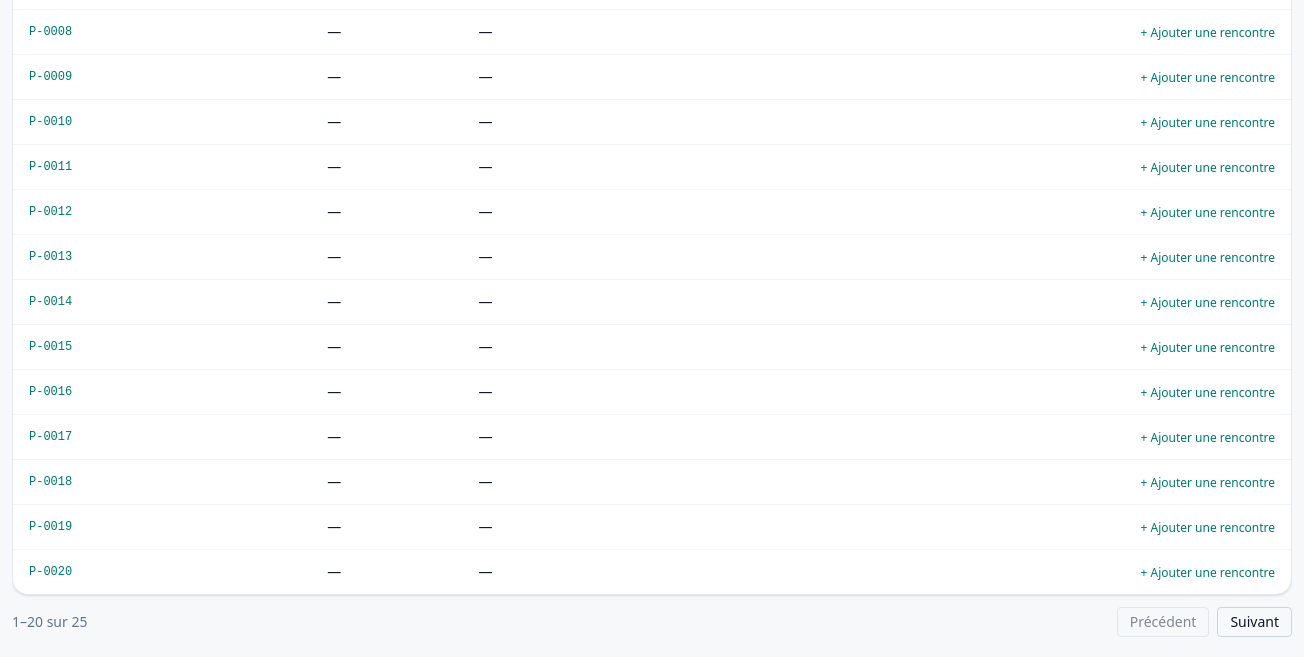
BaseHome (liste patients) › pagine : affiche "1–20 sur 25" et charge la page suivante
(page scrolled)
Expected: the text "1–20 sur 25" is shown, [12,612,88,632]
Click the button "Suivant" at (1255, 622), box [1217,607,1292,637]
(page scrolled)
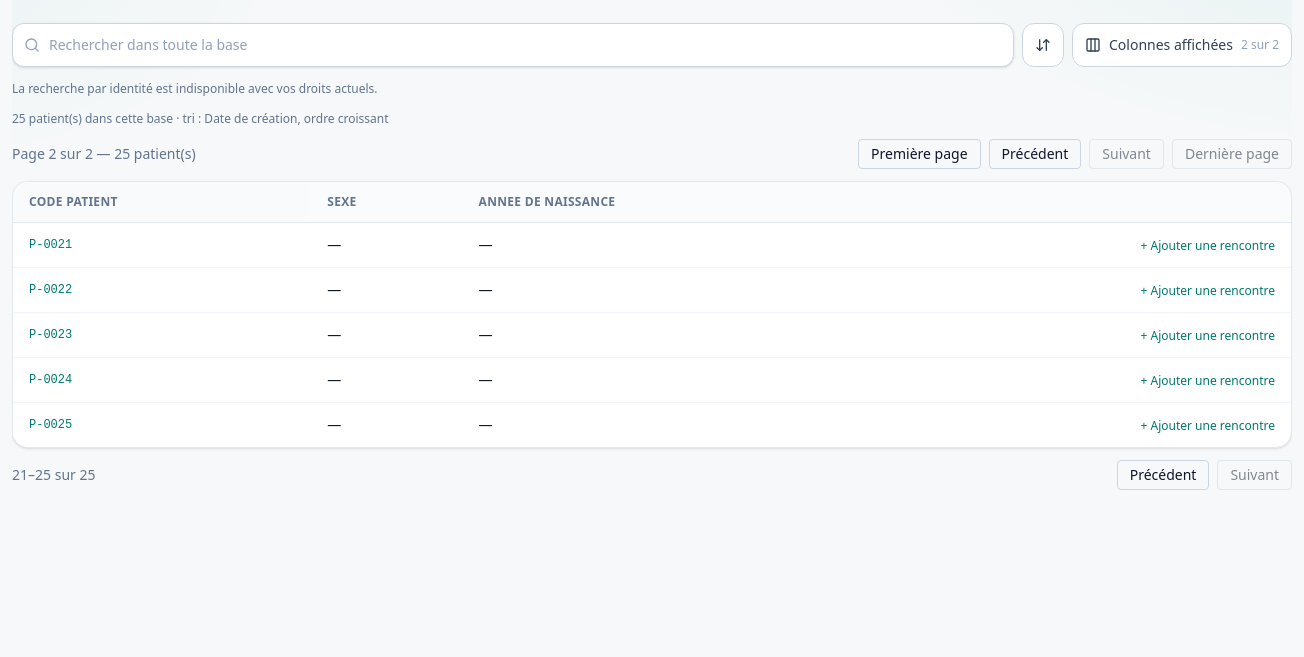
Expected: the text "21–25 sur 25" is shown, [12,465,96,485]
